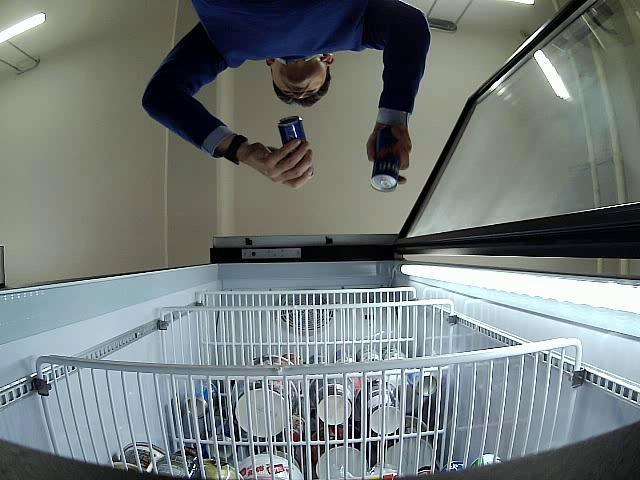16_hot6: (277, 114, 313, 174), (370, 126, 400, 192)
